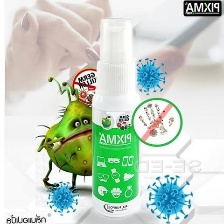cleaning_solution: (90, 14, 143, 220)
